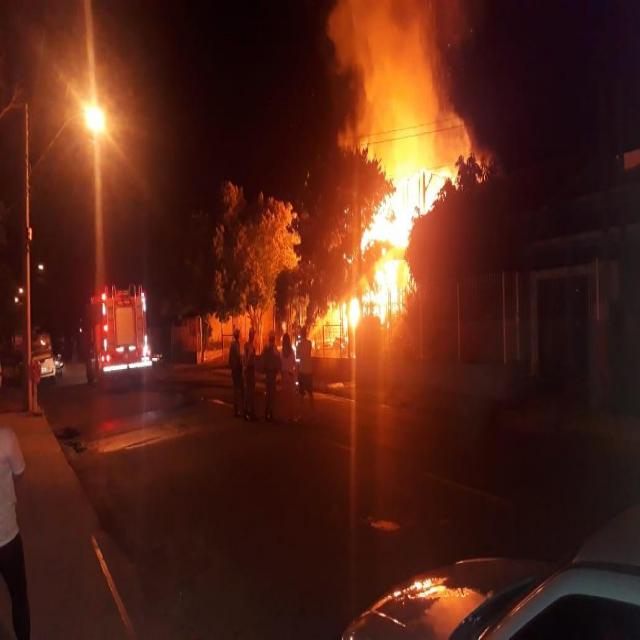fire: (311, 0, 479, 347)
